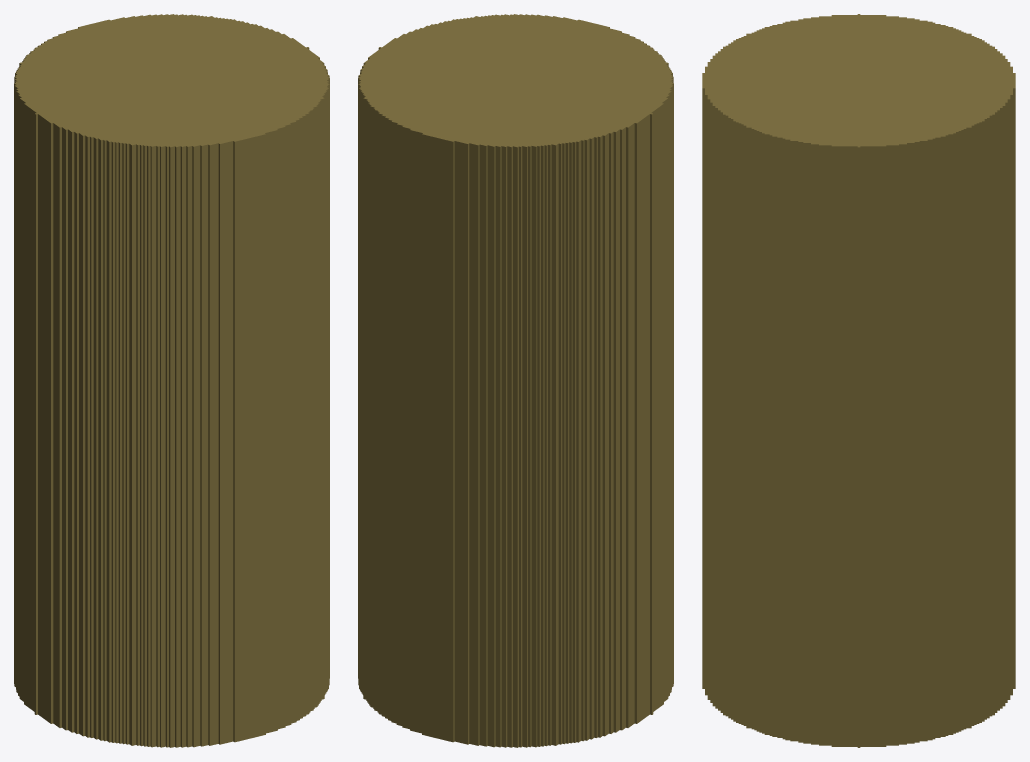
File: forest1.4-188.obj
3 views of the same model, side by side, from view 1: azimuth 30°, elevation 25°; view 2: azimuth 150°, elevation 25°; view 3: azimuth 270°, elevation 25° (orthographic).
Size of the model in its own units: 12.2 by 25.6 by 12.1.
Materials: 1 (1 with a texture image).
